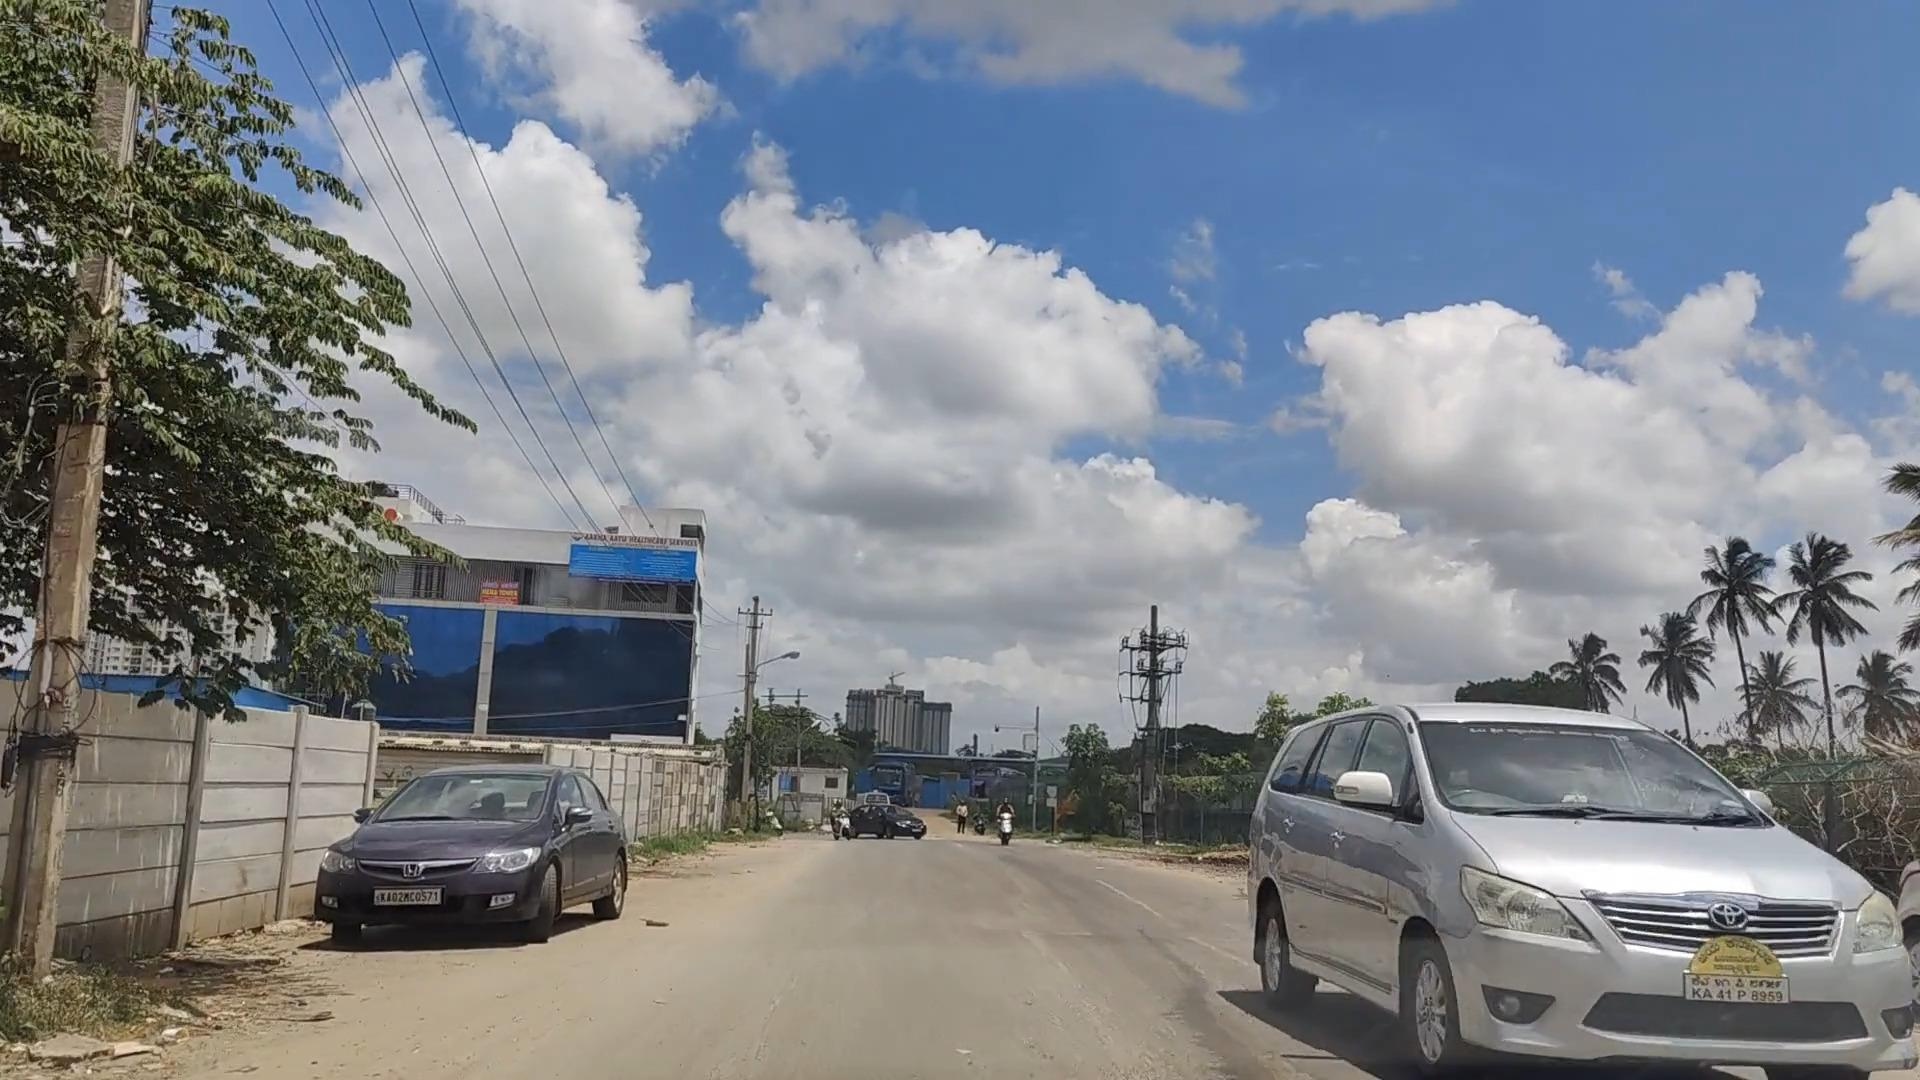LMV: (1246, 695, 1920, 1080), (301, 767, 659, 931)
UnsurfacedRoad: (145, 948, 479, 1080)
